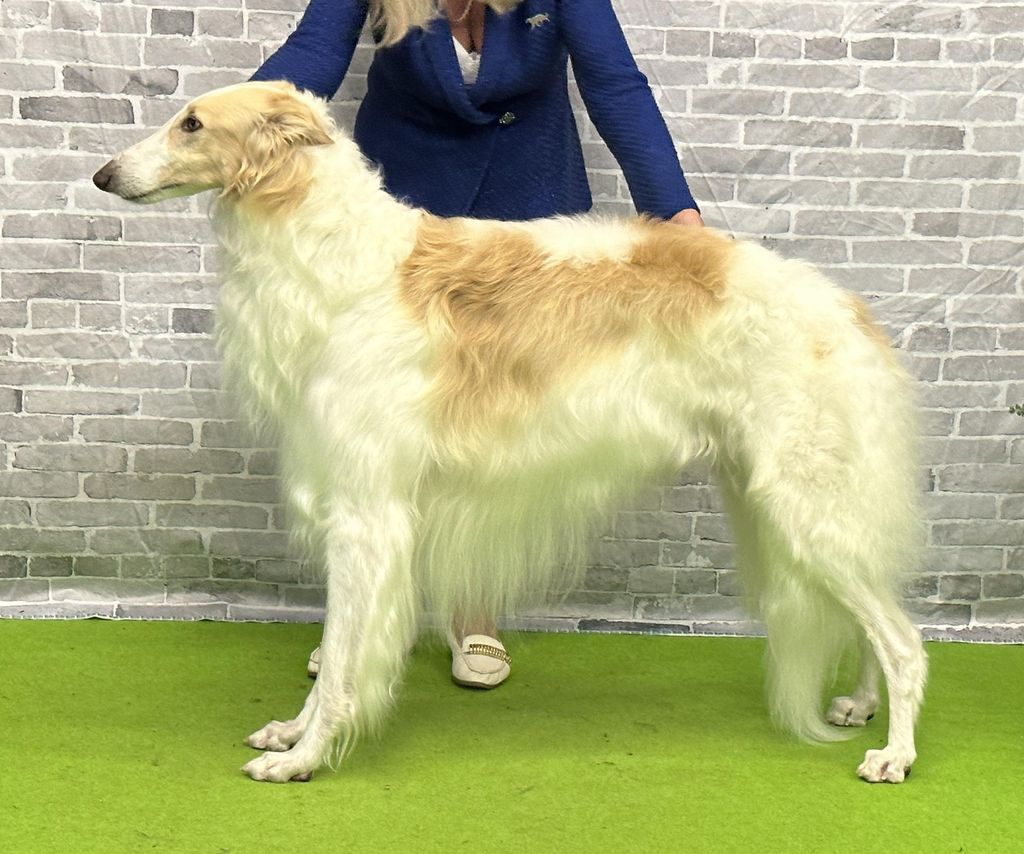borzoi: (95, 72, 935, 794)
